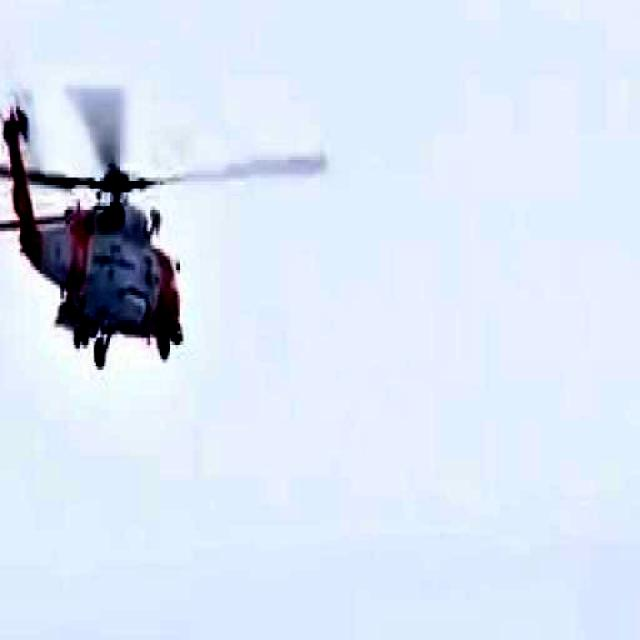drone: (0, 66, 334, 378)
